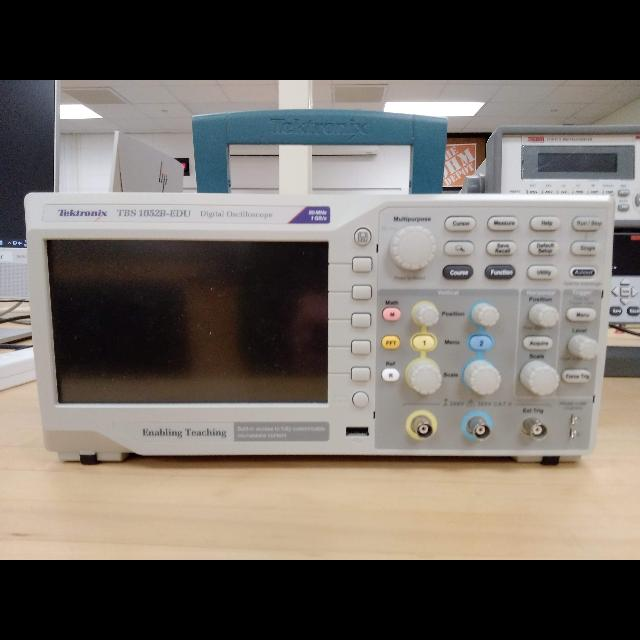Digital-Oscilloscope: (26, 194, 612, 454)
